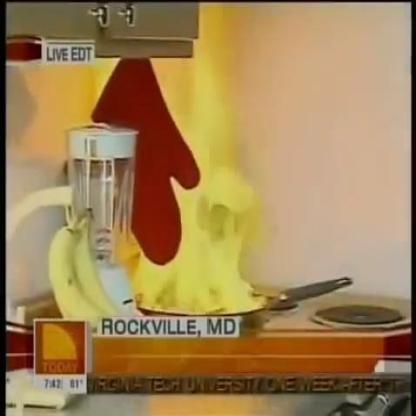fire: (132, 45, 269, 321)
